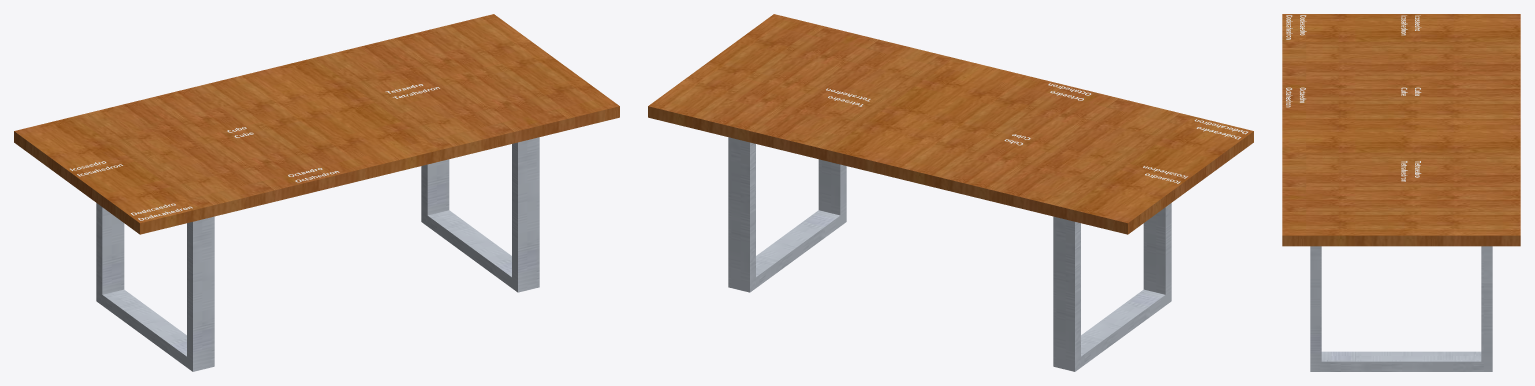
The model's file is mesa_Platao.glb.
3 renders of one model, left to right at view 1: azimuth 30°, elevation 25°; view 2: azimuth 150°, elevation 25°; view 3: azimuth 270°, elevation 25°, orthographic. The views are drawn at different scales.
Parts seen in each view (by area): view 1: object 1, Composant#1 (×2); view 2: object 1, Composant#1 (×2); view 3: object 1, Composant#1, Dodecaedro Dodec#2.
Boxes of the visible parts, bbox=[...] form: object 1: bbox=[14, 14, 619, 234]; Composant#1 (×2): bbox=[96, 137, 539, 371]; object 1: bbox=[648, 14, 1253, 234]; Composant#1 (×2): bbox=[728, 137, 1171, 371]; object 1: bbox=[1282, 14, 1520, 246]; Composant#1: bbox=[1310, 246, 1492, 371]; Dodecaedro Dodec#2: bbox=[1286, 15, 1306, 39].
Size of the model in its own units: 2.2 by 0.771 by 1.
Materials: 3 (2 with a texture image).
